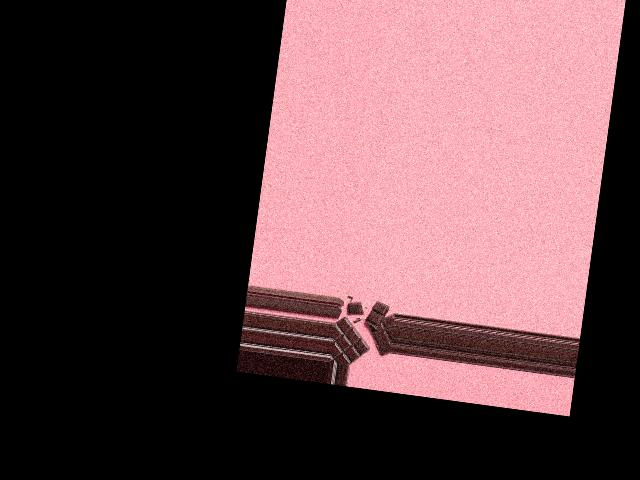chocolate: (330, 299, 392, 370)
